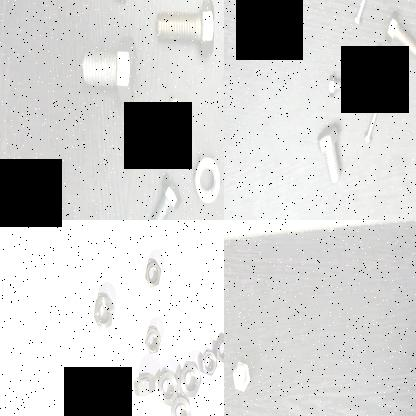Bolts: (75, 35, 143, 107), (154, 0, 219, 56), (141, 171, 184, 220), (383, 8, 416, 61), (316, 118, 342, 182), (370, 44, 399, 86), (362, 96, 384, 150), (324, 69, 357, 101), (230, 358, 254, 398), (352, 0, 370, 26)
NUTS: (193, 150, 224, 208), (164, 95, 190, 136), (92, 288, 116, 330), (180, 358, 203, 400), (130, 372, 158, 402), (156, 368, 178, 406), (142, 256, 164, 292), (198, 344, 218, 376), (170, 393, 193, 416), (106, 379, 122, 411), (146, 323, 161, 355), (90, 393, 110, 416), (216, 329, 224, 369)
